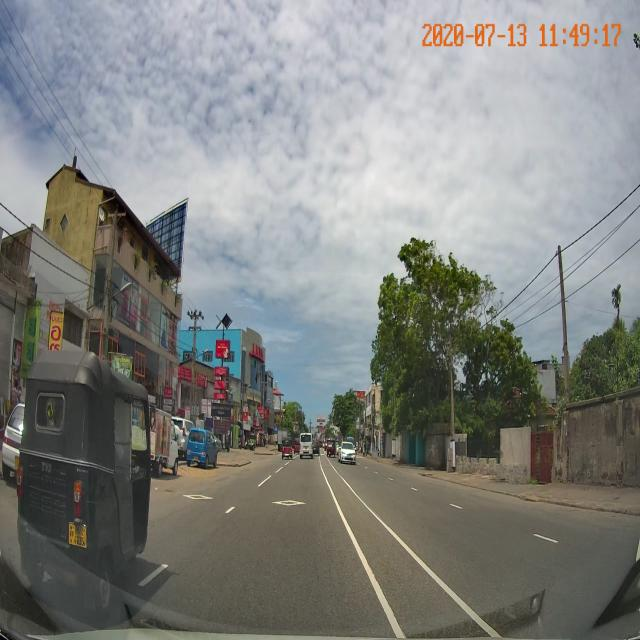Romb: (271, 500, 307, 506), (182, 494, 214, 500)
